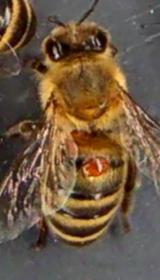varroa_mite: (80, 150, 114, 182)
